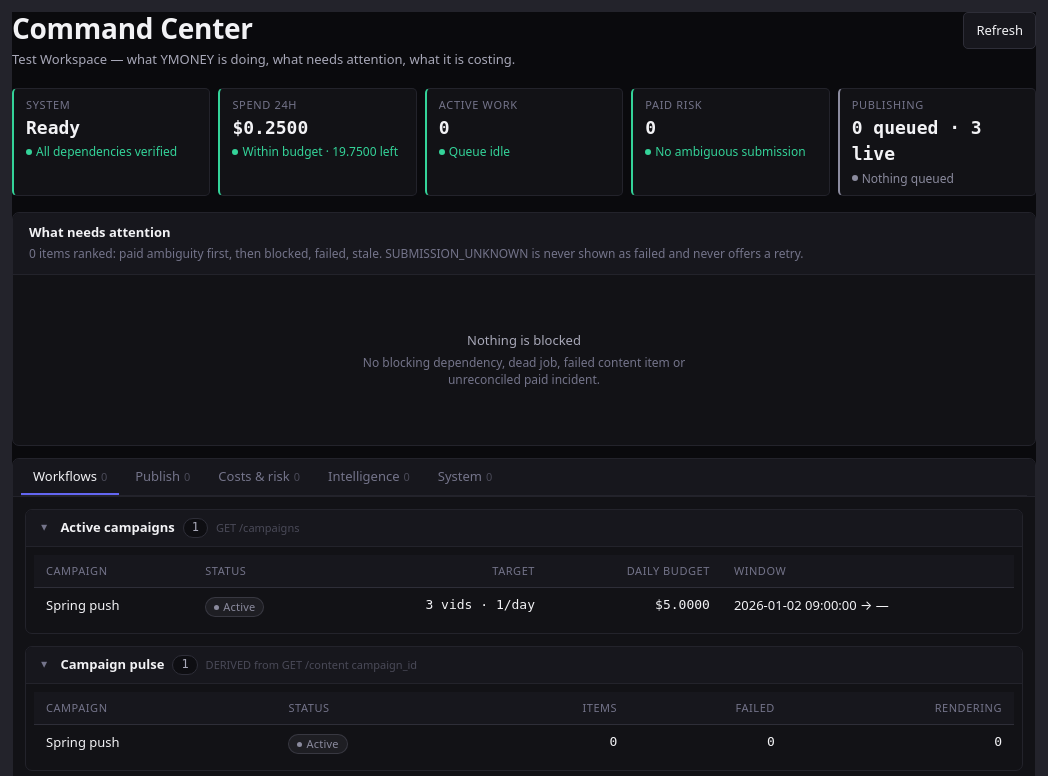
CommandCenter › counts performance signals from measured snapshots only — a genuine zero counts
Click the tab "Intelligence0".
click(369, 477)  # box [316, 459, 422, 495]
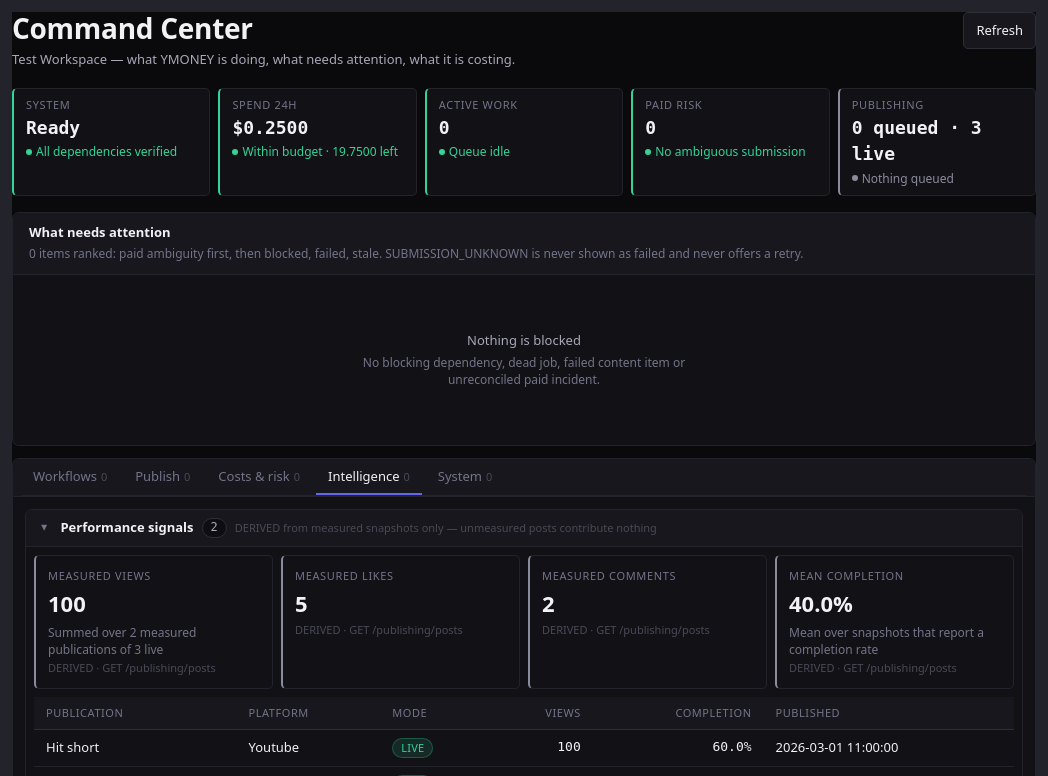
Expected: the heading "Performance signals" is shown, [60, 520, 194, 536]
Expected: the text "Summed over 2 measured publications of 3 live" is shown, [48, 624, 196, 658]
